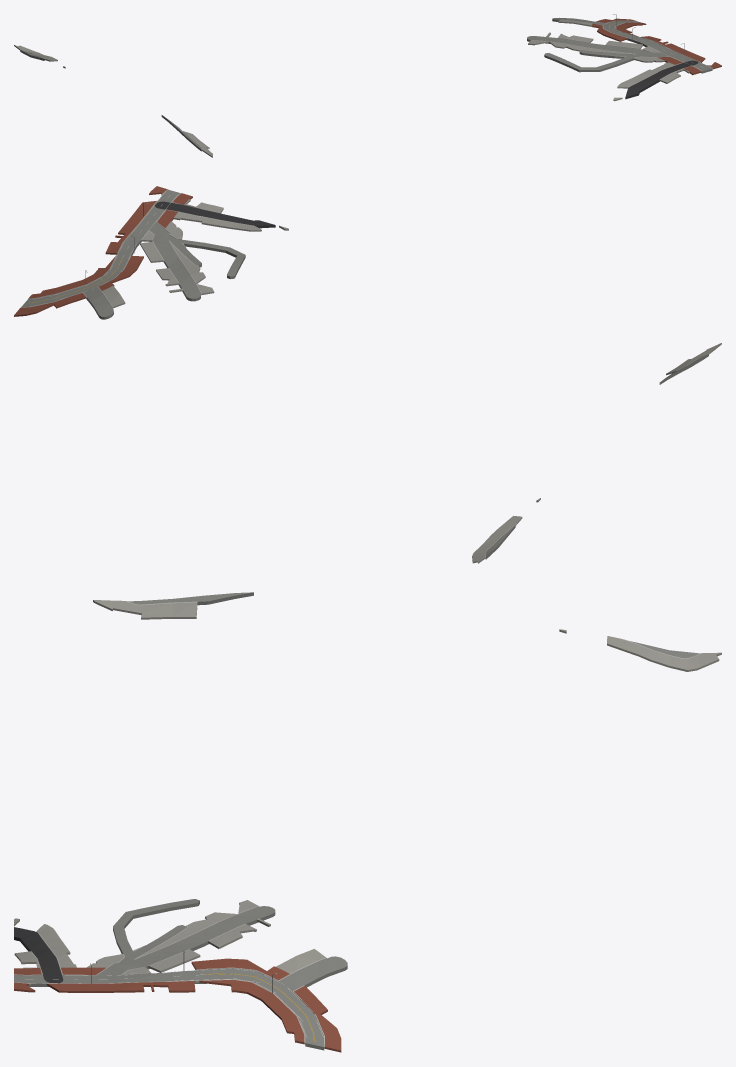
File: 17-109447-59467.cce50264.glb
3 renders of one model, top to bottom at view 1: azimuth 30°, elevation 25°; view 2: azimuth 150°, elevation 25°; view 3: azimuth 270°, elevation 25°, orthographic. The views are drawn at different scales.
Bounding box in the file's own units: 293 × 26.86 × 228.
